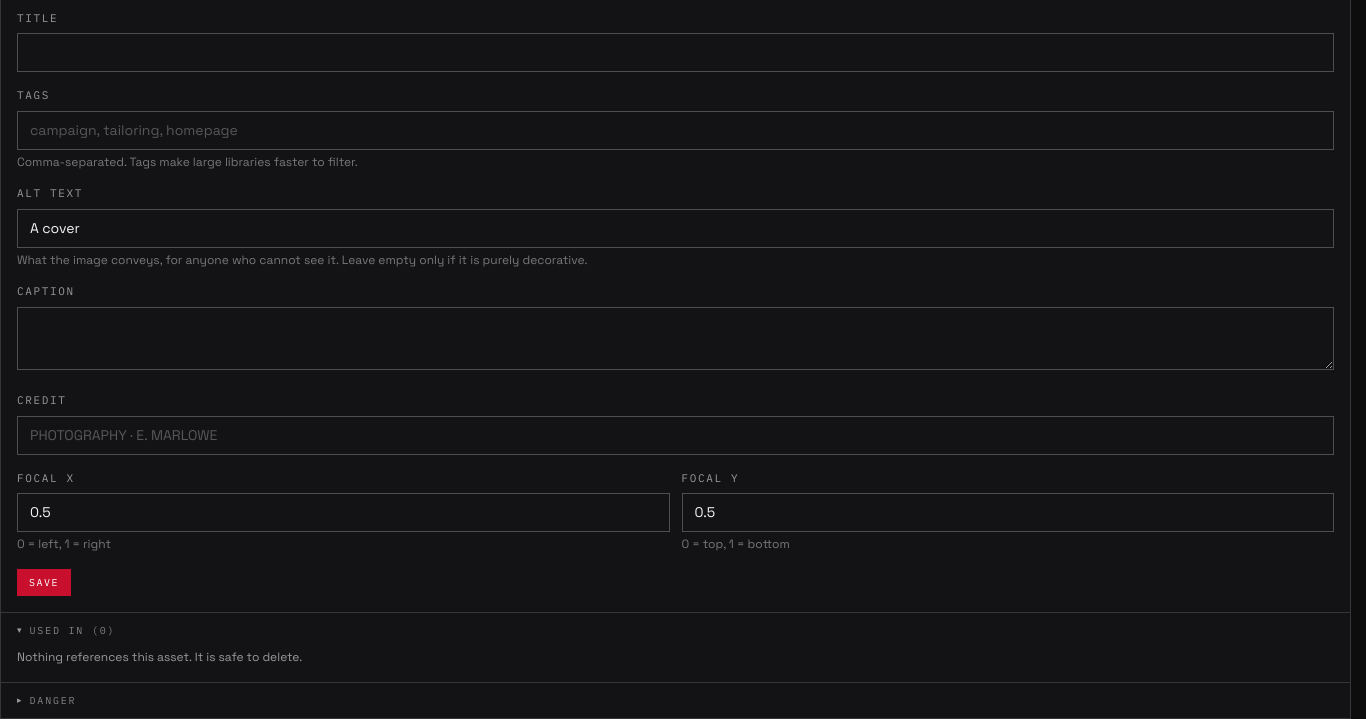
Test: AssetDetails › allows the delete once nothing references it
The width and height of the screenshot is (1366, 719).
(page scrolled)
Expected: the text "Nothing references this asset. It is safe to delete." is shown, [17, 649, 302, 665]
Click the button "▸ Danger" at [53, 700], box [17, 693, 1334, 708]
(page scrolled)
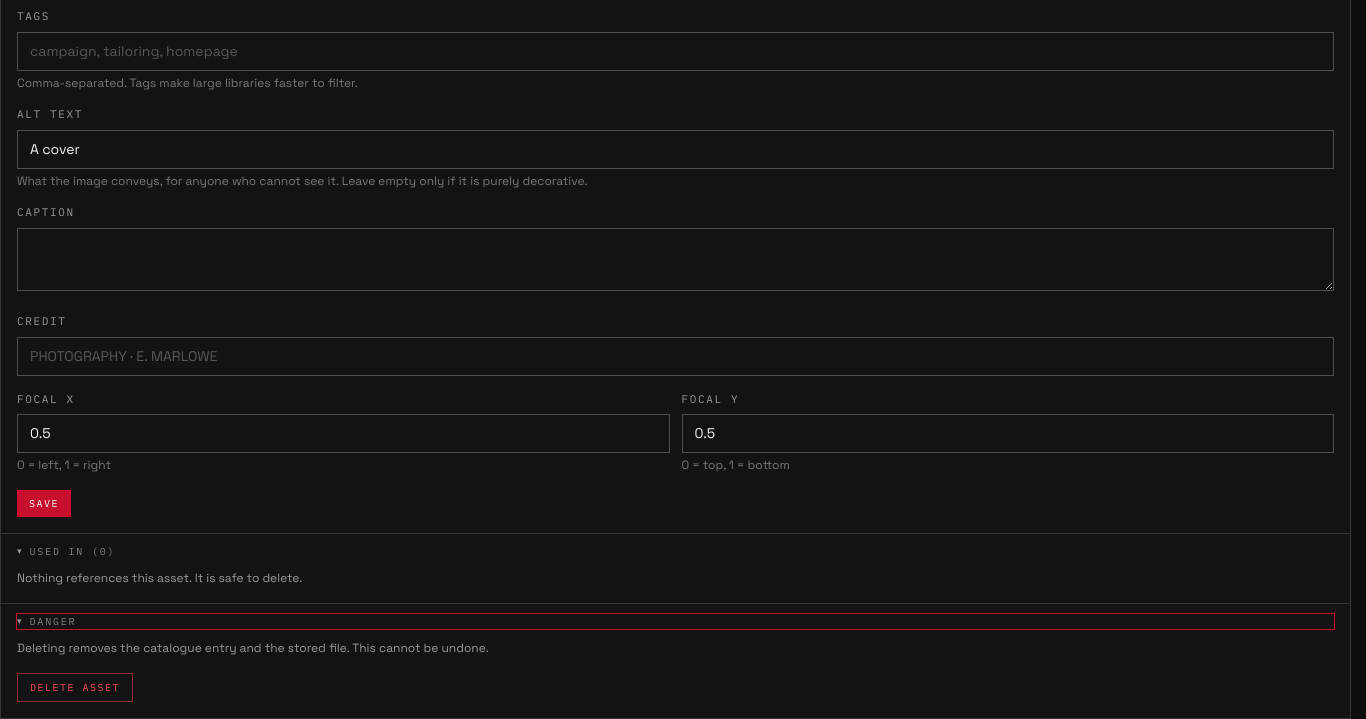
Expected: the button "Delete asset" is enabled, [17, 673, 133, 702]
